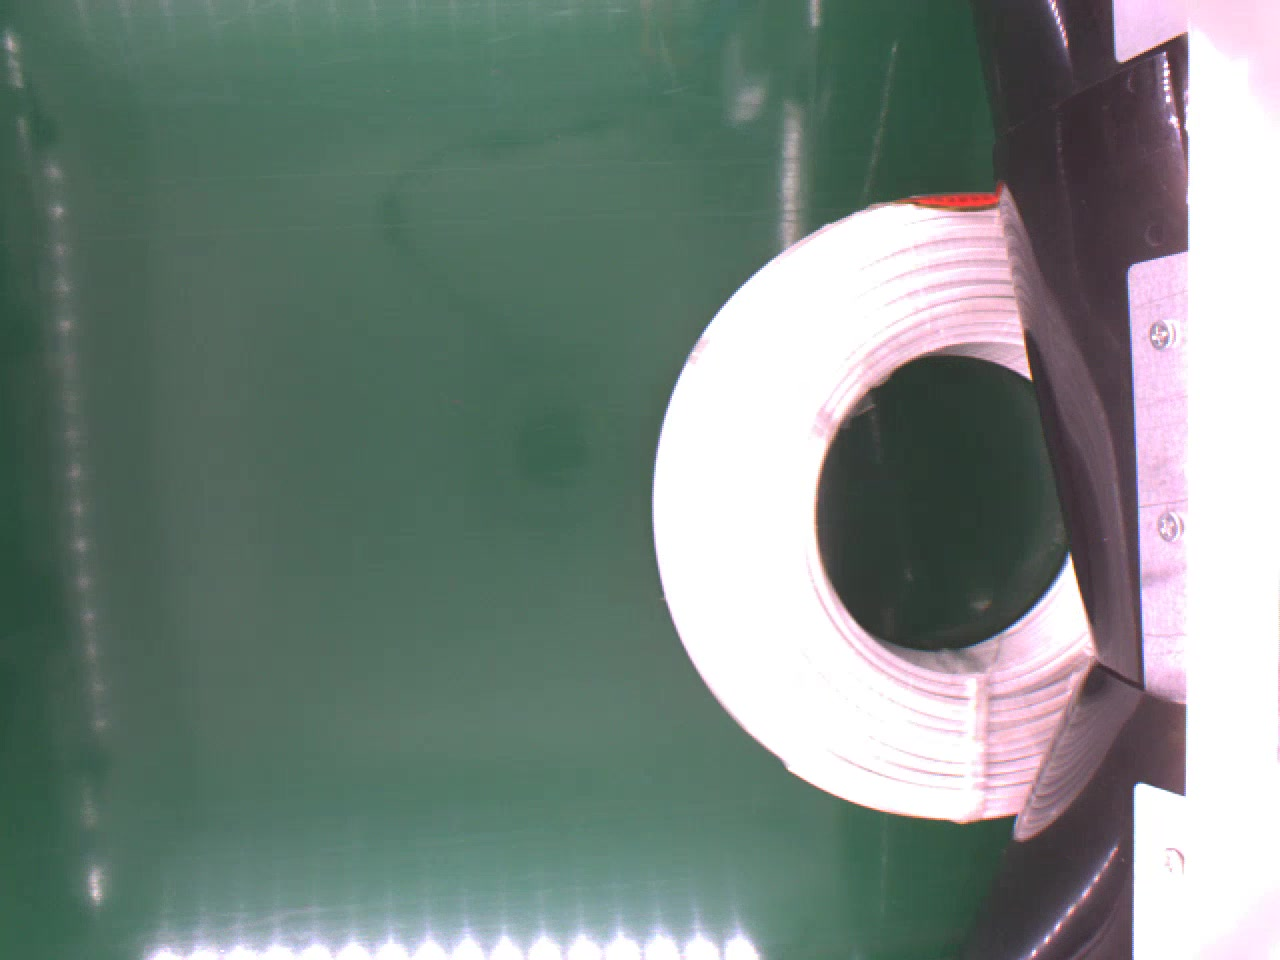white: (652, 184, 1091, 834)
